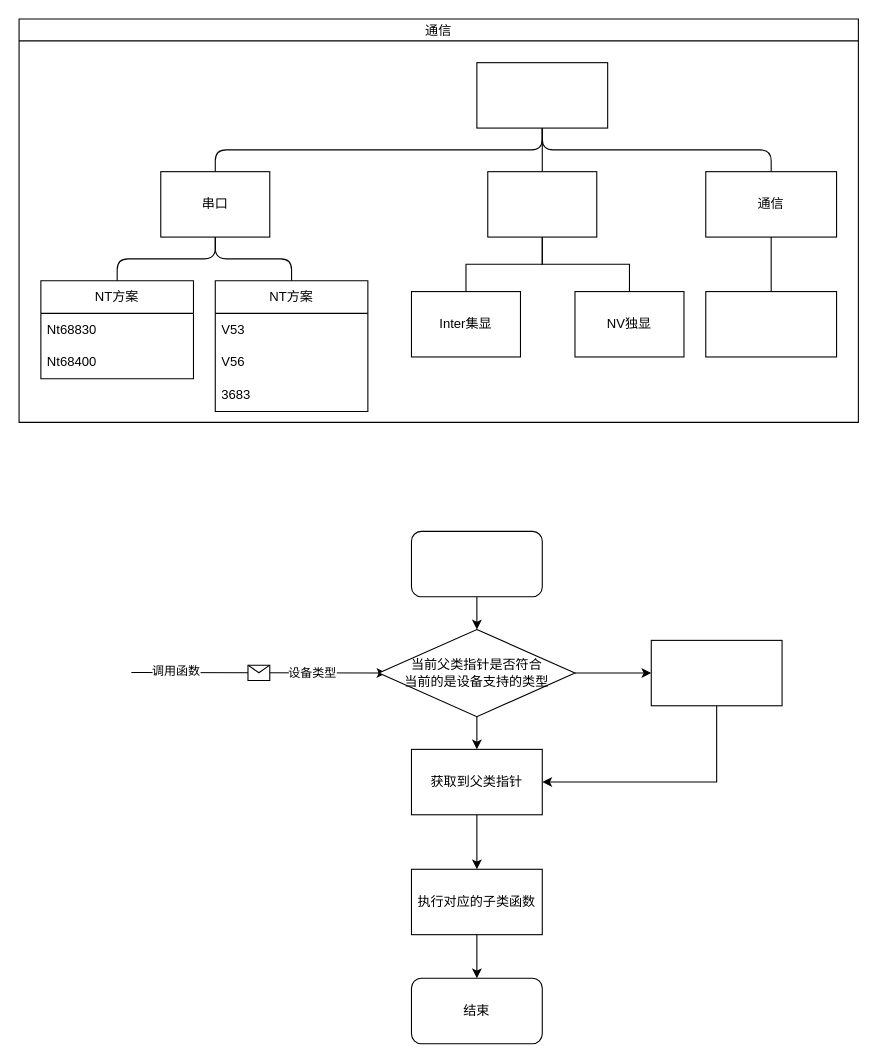
This 877x1063 diagram has some shape labels left out. Each missing label, with the centre of its shape:
"DDCI" belongs at point 542,204.
"LED发送卡" belongs at point 771,323.
"开始" belongs at point 476,563.
"通信父类" belongs at point 542,95.
"释放原有父指针，创建合适的协议子类" belongs at point 716,672.
